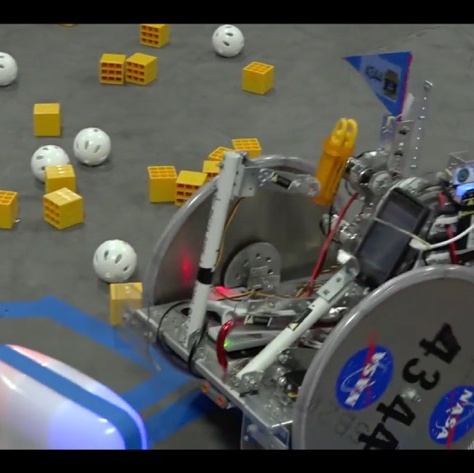robot: (122, 46, 474, 450)
